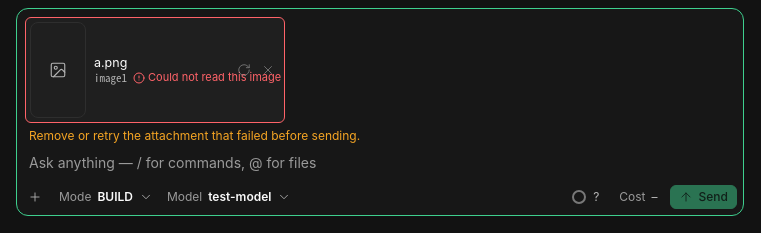
Test: sending › a failed image shows its reason, blocks Send and can be removed
Expected: the list item shows "Could not read this image", [148,70,281,84]
What coordinates should you click on to do the following:
click the button named "Remove a.png"
I would click on:
 (268, 70)
Its box is [256,58,280,82].
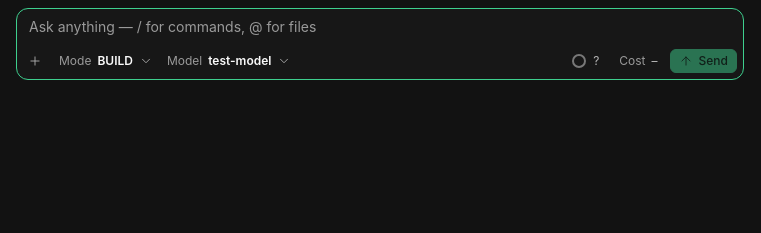
Now no list items are shown
